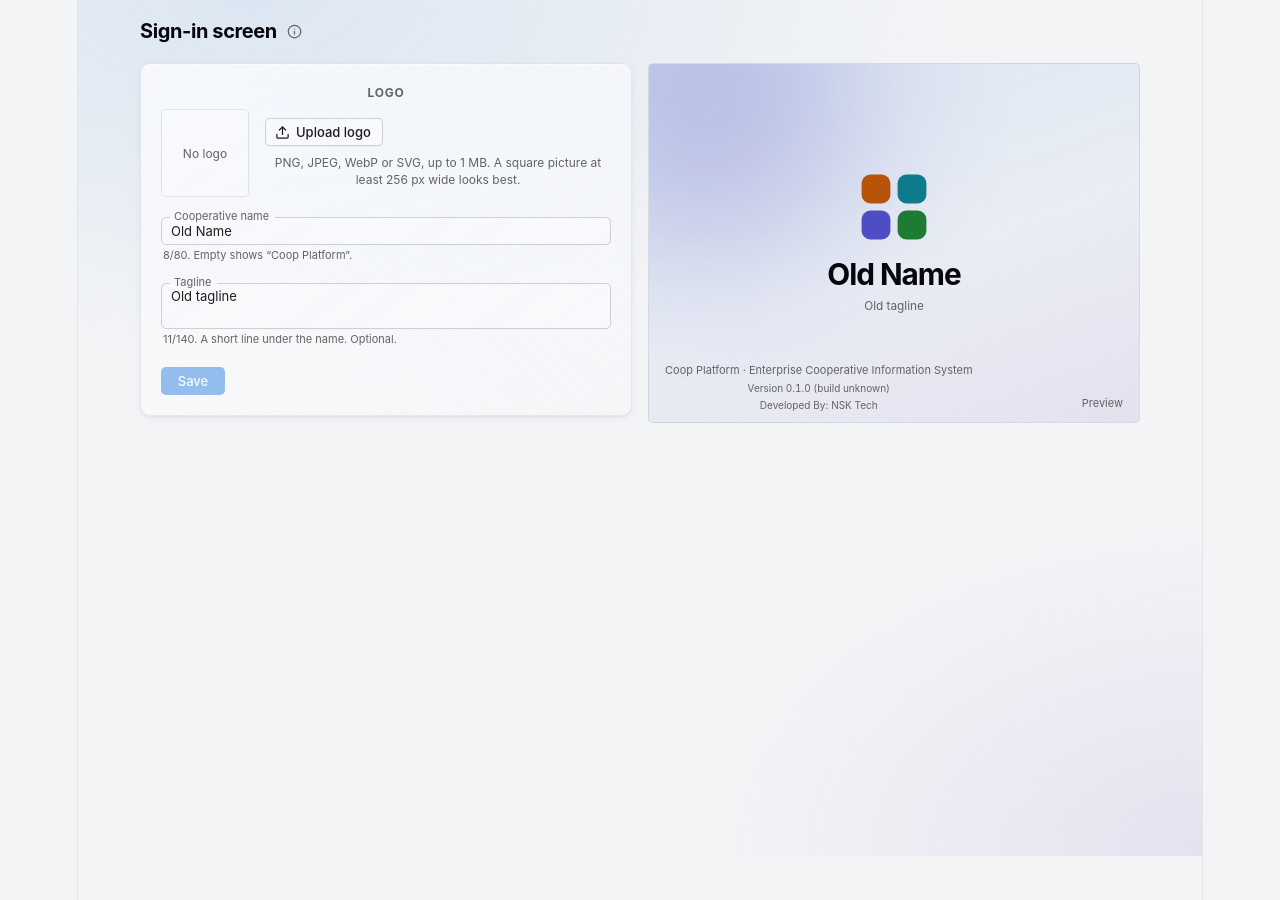
Test: sign-in screen settings › fills the form from what is saved and previews the change as it is typed
The width and height of the screenshot is (1280, 900).
expect the text box labelled "Tagline" holds "Old tagline": met, box [171, 288, 601, 324]
Replace the text in the field labelled "Cooperative name" with "Brand New Coop" at (386, 231), box [161, 217, 611, 245]
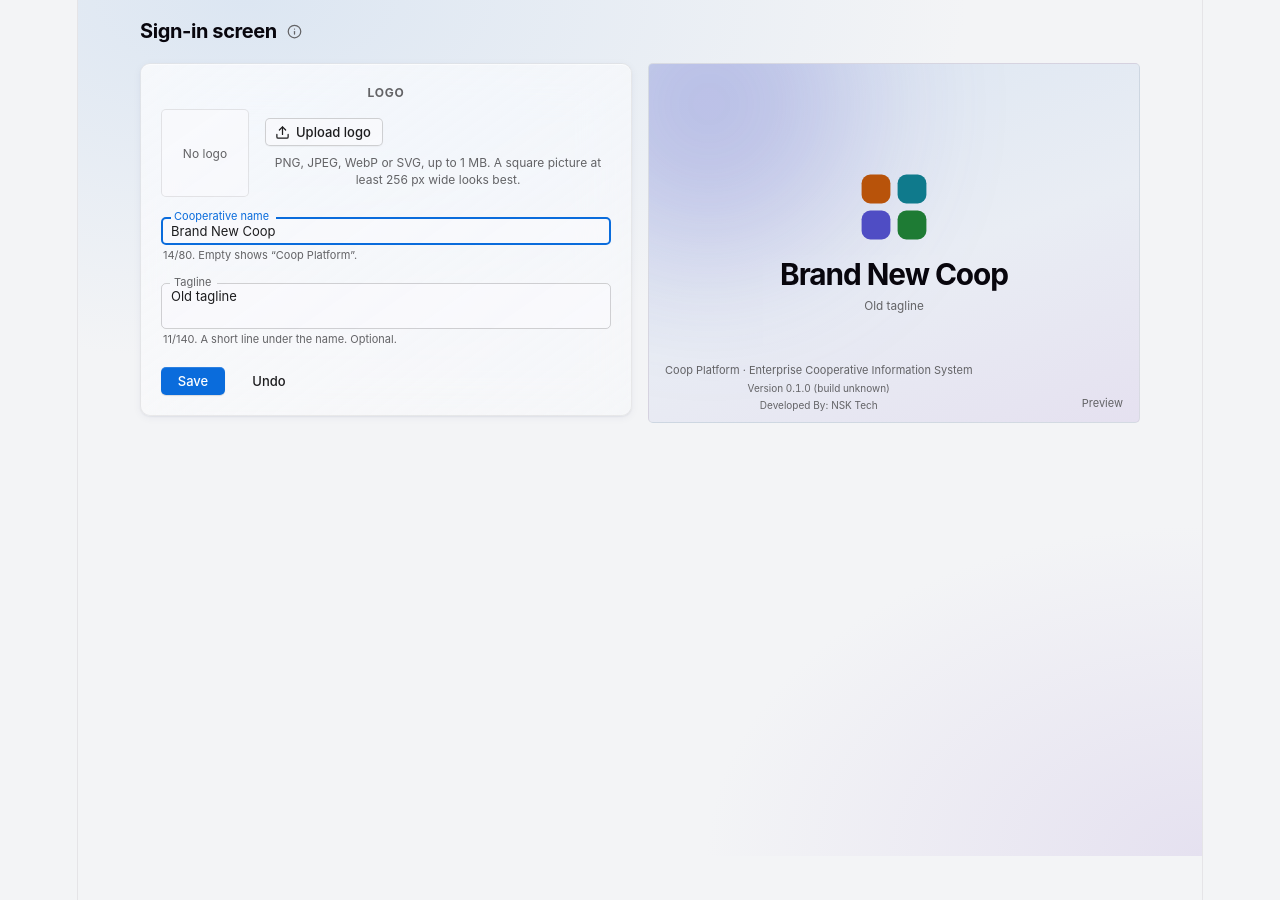
expect the heading "Brand New Coop" is shown: met, box [780, 258, 1008, 291]
